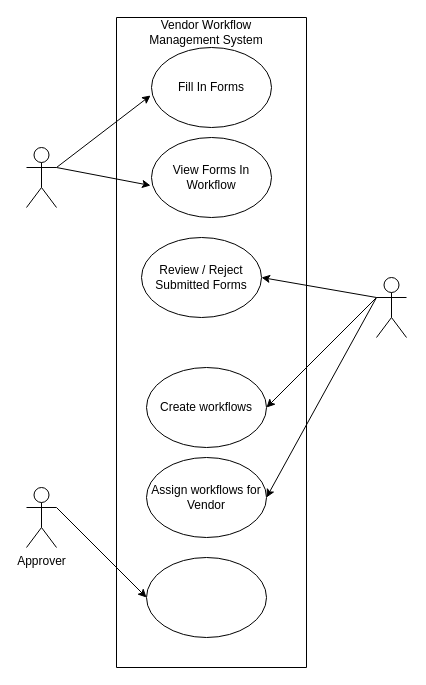
Some shapes in this 426 by 685 pixel diagram are drawn without their labels. Here are the shapes that lost their labels. From the top down, the centre of each, then its label:
the point at 41,177: Vendor
the point at 391,307: Admin
the point at 206,597: Approve / Reject Forms
